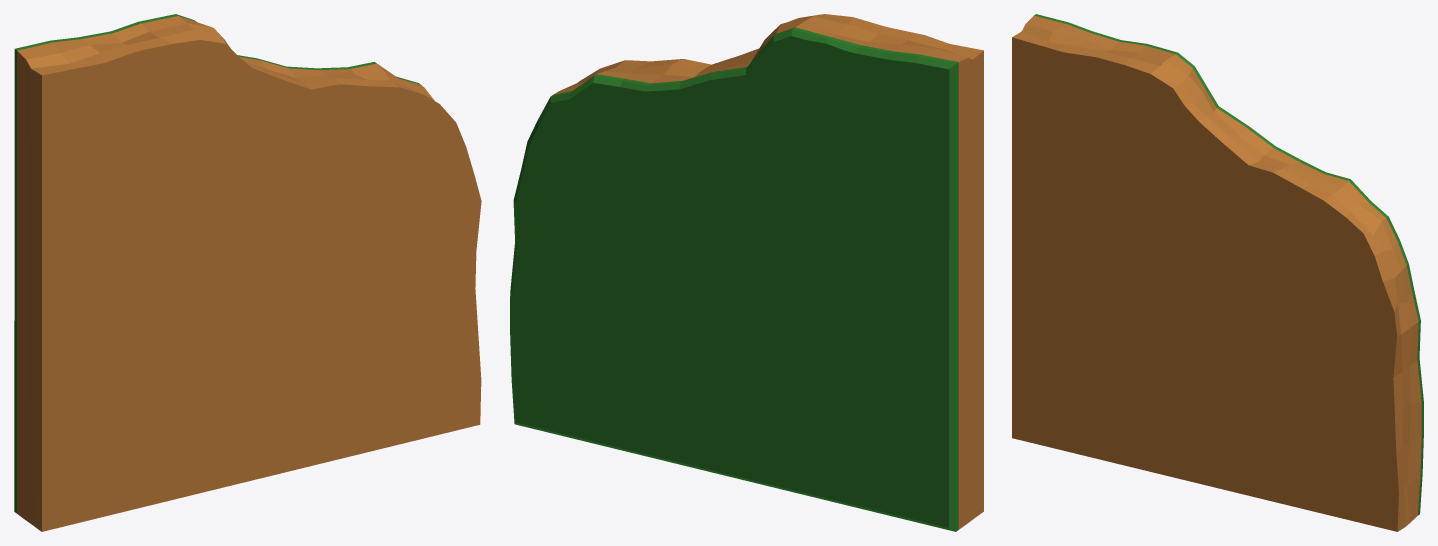
The model's file is corner1.fbx.
3 views of the same model, side by side, from view 1: azimuth 30°, elevation 25°; view 2: azimuth 150°, elevation 25°; view 3: azimuth 330°, elevation 25° (orthographic). The views are drawn at different scales.
Visible parts, largest first — view 1: corner1; view 2: corner1; view 3: corner1.
Part boxes in pixels (bbox=[...]): corner1: bbox=[14, 14, 481, 531]; corner1: bbox=[510, 14, 983, 531]; corner1: bbox=[1012, 14, 1423, 531].
Size of the model in its own units: 2019 by 2026 by 259.
